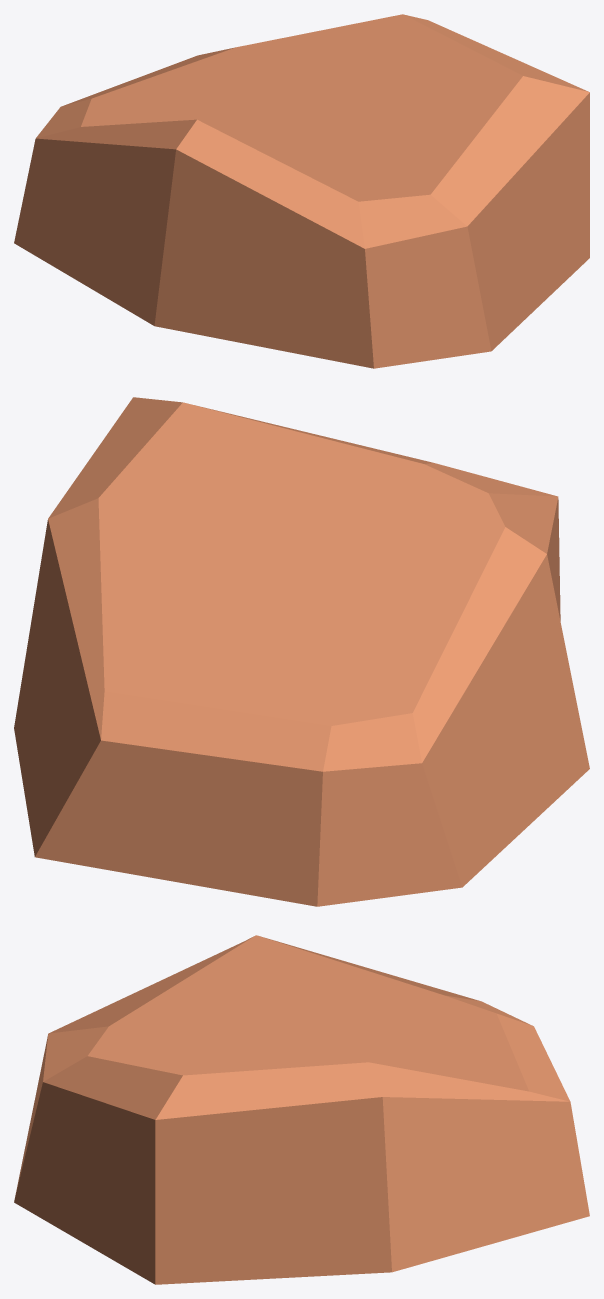
File: Stone005.fbx
3 renders of one model, top to bottom at view 1: azimuth 30°, elevation 25°; view 2: azimuth 150°, elevation 25°; view 3: azimuth 270°, elevation 25°, orthographic. The views are drawn at different scales.
Visible parts, largest first — view 1: Stone005; view 2: Stone005; view 3: Stone005.
Part boxes in pixels (<box>): Stone005: <box>14,14,589,368</box>; Stone005: <box>14,397,589,906</box>; Stone005: <box>14,935,589,1284</box>.
Bounding box in the file's own units: 0.2929 × 0.1358 × 0.3525.
